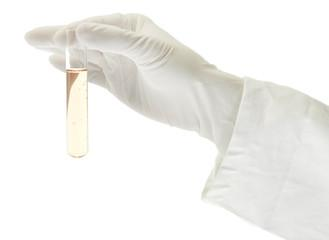Test tube: (63, 20, 88, 160)
